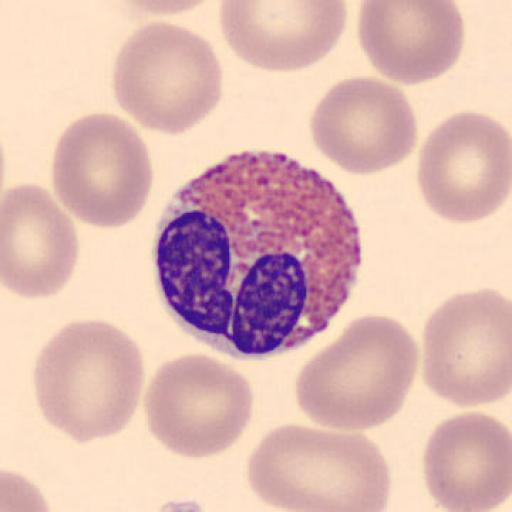RBC: (294, 312, 420, 432), (31, 317, 145, 445), (110, 20, 223, 138), (248, 420, 392, 512), (50, 111, 155, 230), (143, 351, 255, 460), (309, 74, 418, 178), (421, 286, 512, 409), (415, 109, 511, 225), (219, 0, 350, 73), (356, 0, 466, 86), (2, 182, 80, 300), (422, 410, 511, 512), (2, 467, 52, 512), (104, 0, 219, 18)
WBC: (150, 154, 366, 359)
